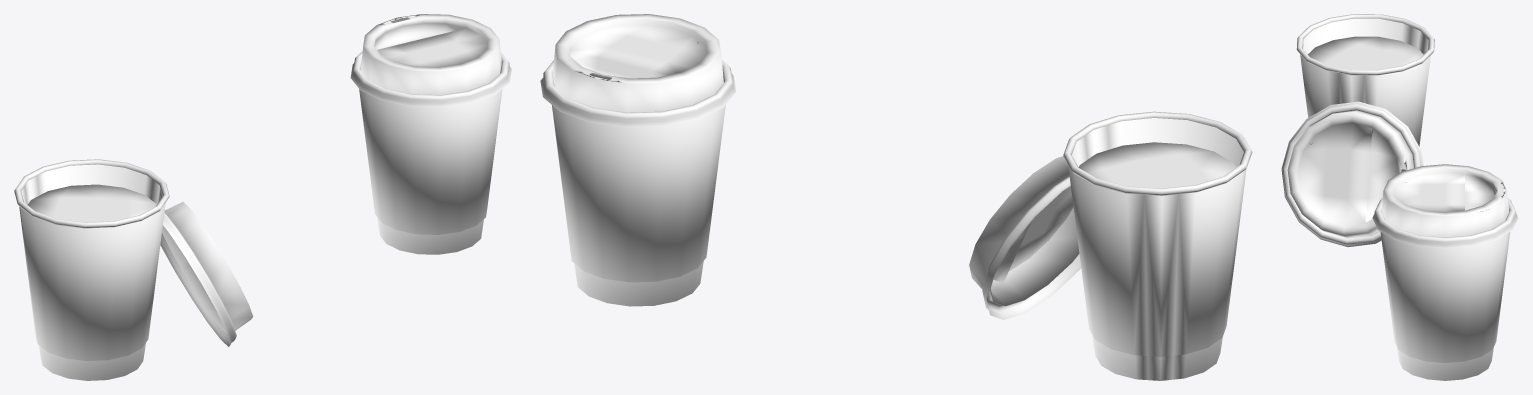
File: CafesAfuera.obj
3 views of the same model, side by side, from view 1: azimuth 30°, elevation 25°; view 2: azimuth 150°, elevation 25°; view 3: azimuth 270°, elevation 25° (orthographic). The views are drawn at different scales.
Visible parts, largest first — view 1: Bench_Duet_obj:Duet_Cups_of_coffee; view 2: Bench_Duet_obj:Duet_Cups_of_coffee; view 3: Bench_Duet_obj:Duet_Cups_of_coffee.
Part boxes in pixels (x1,y1,x2,y2): Bench_Duet_obj:Duet_Cups_of_coffee: (14,14,511,380); Bench_Duet_obj:Duet_Cups_of_coffee: (540,14,1252,380); Bench_Duet_obj:Duet_Cups_of_coffee: (1281,14,1518,380).
Bounding box in the file's own units: 0.5269 × 0.1862 × 0.2312.
